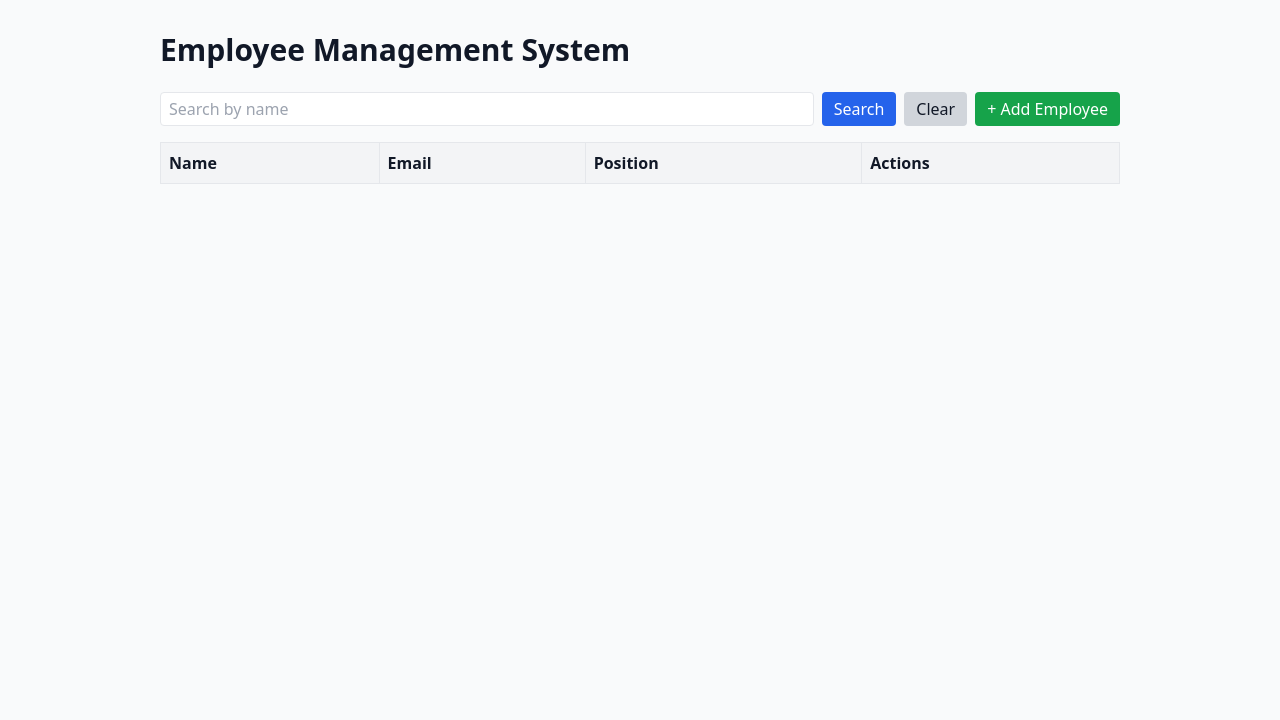
shows modal when Add Employee button is clicked
What coordinates should you click on to do the following:
click the button "+ Add Employee"
I would click on:
 (1048, 109)
Its box is [975,92,1120,126].
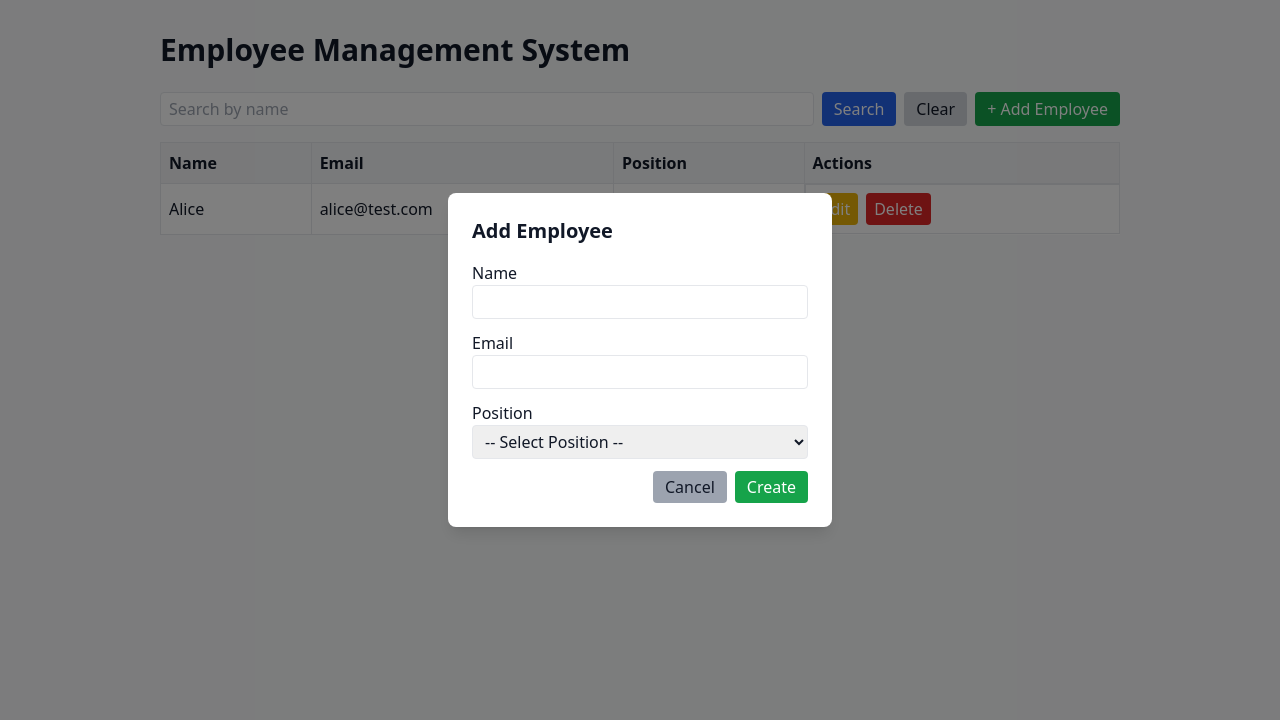
Expected: the field labelled "Name" is shown, [472,285,808,319]
Result: the heading "Add Employee" is shown at [472,217,613,244]
Result: the dropdown labelled "Position" is shown at [472,425,808,459]
